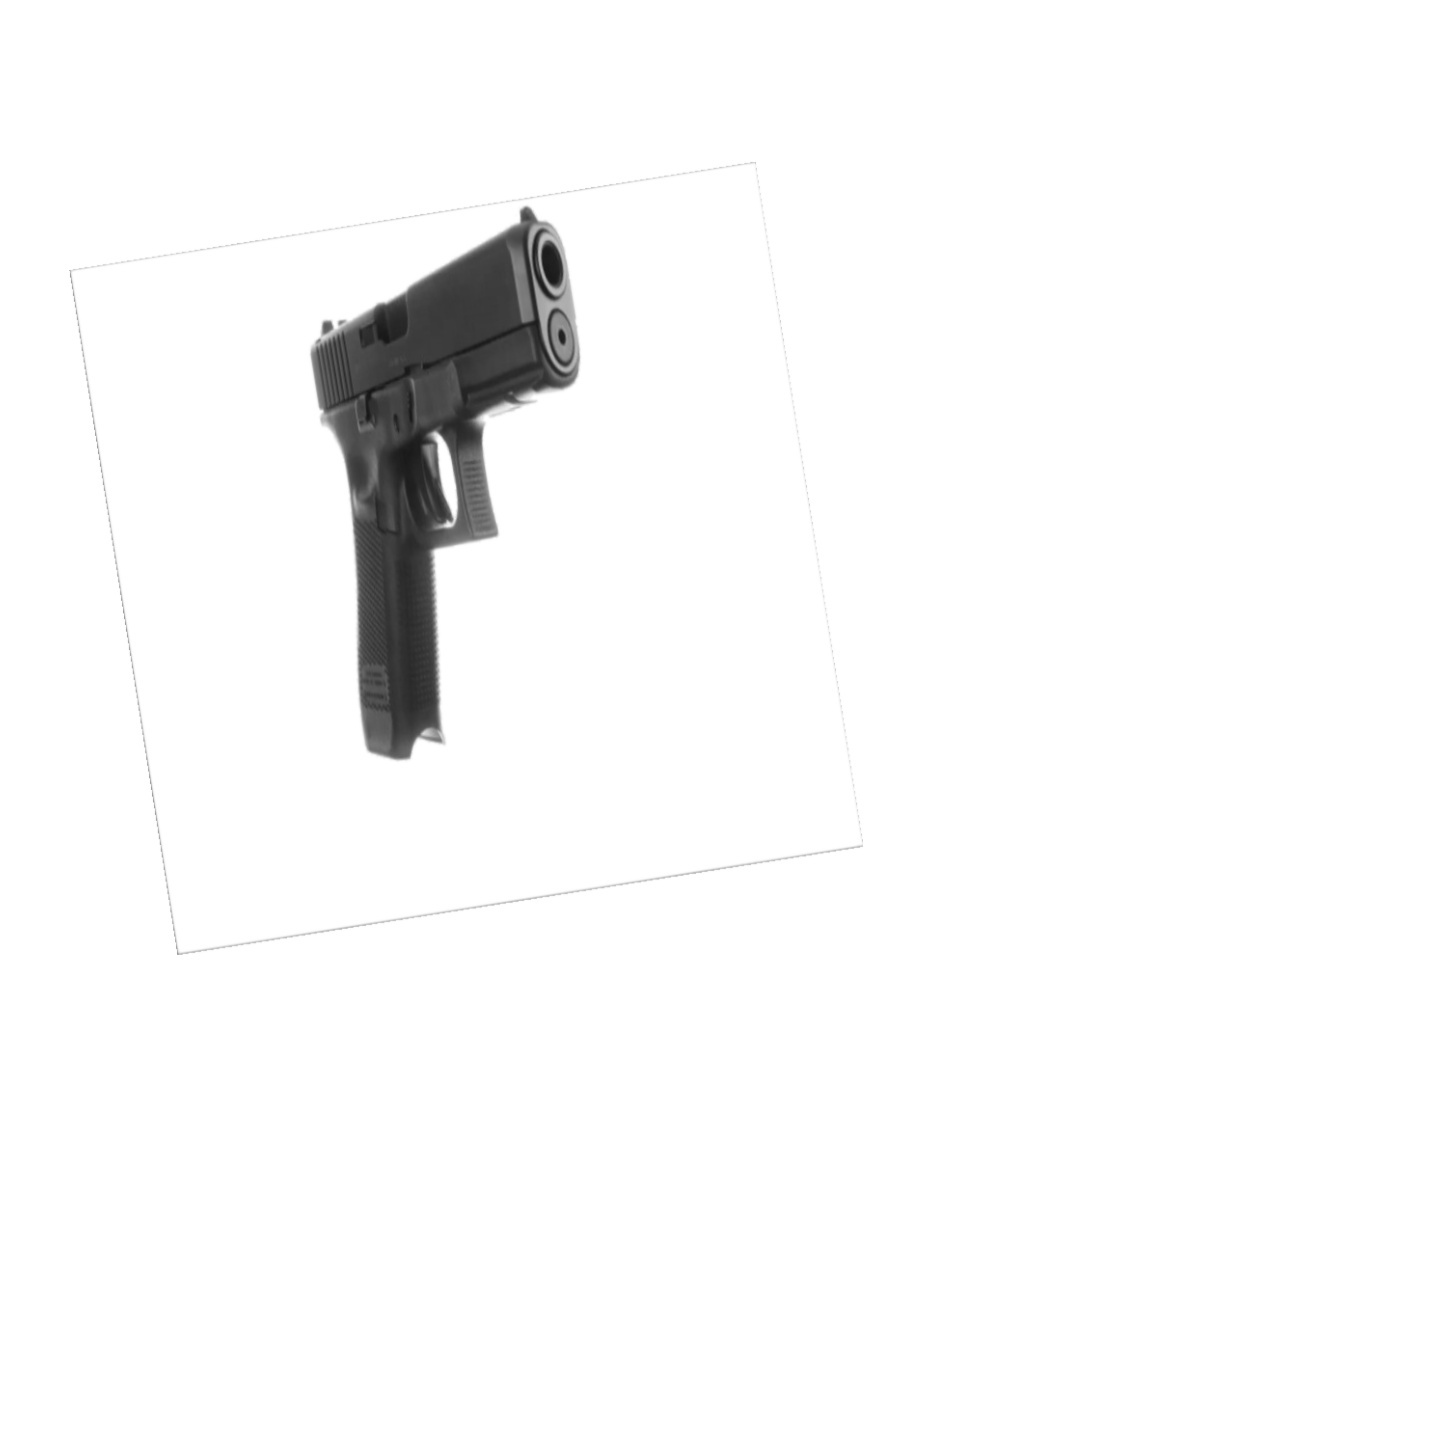gun: (307, 199, 583, 762)
